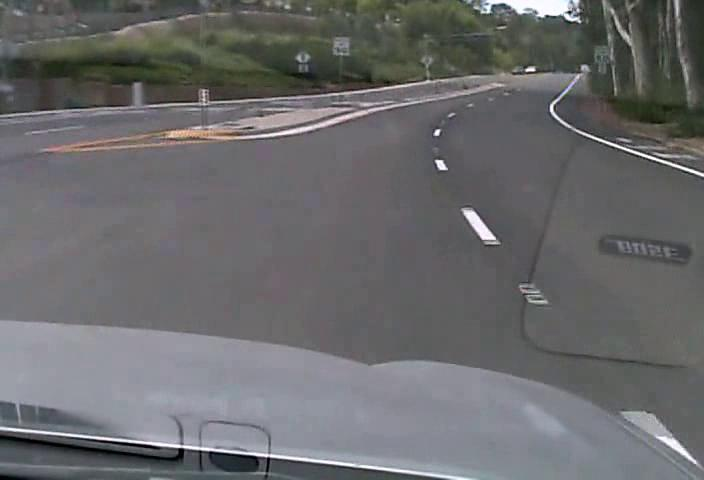speedLimitUrdbl: (332, 35, 352, 57)
